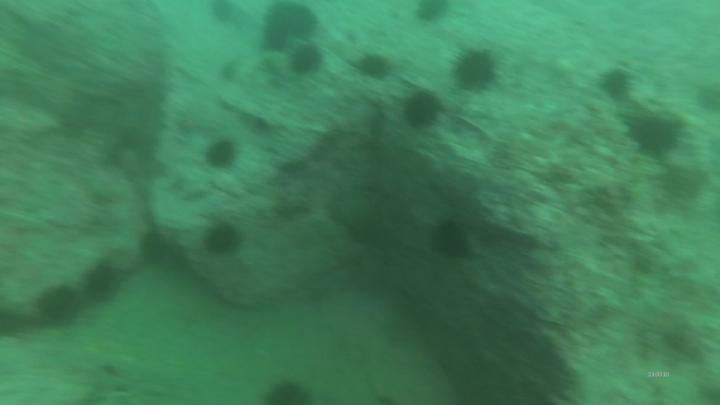echinus: (261, 7, 316, 46), (632, 114, 681, 152), (432, 222, 469, 261), (455, 55, 494, 90), (40, 288, 75, 325), (87, 268, 118, 302), (409, 91, 436, 127), (602, 71, 628, 106), (289, 48, 318, 76), (141, 232, 165, 264), (204, 228, 236, 252), (357, 57, 388, 81), (208, 140, 233, 168), (419, 1, 445, 21), (212, 3, 232, 20)
